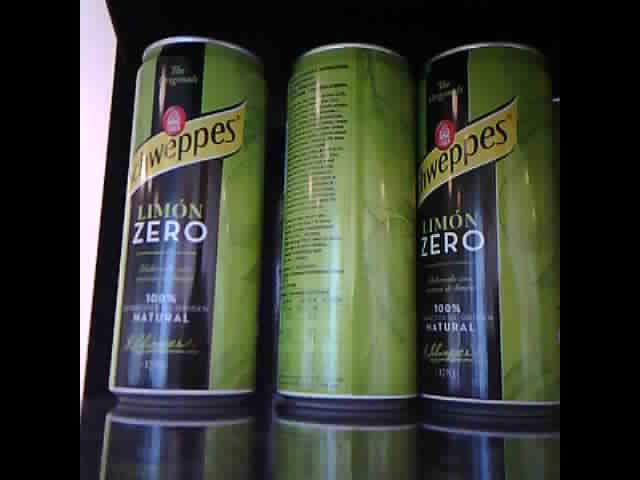schweppes: (106, 33, 279, 405), (269, 36, 418, 410), (419, 37, 554, 410)
